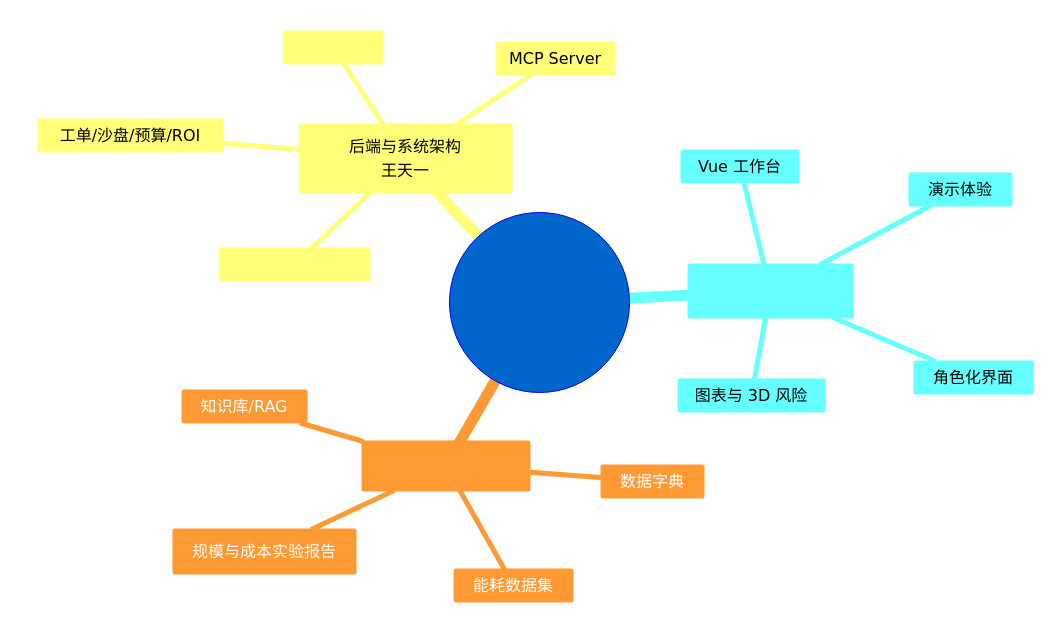
Image size: 1050x619. Some labels were removed from this diagram. Here are the shapes that lost their labels. From the top down, the centre of each, then its label:
At point 332,47: "REST API".
At point 294,264: "数据库与服务层".
At point 539,302: "项目经理 集成与交付 许奕".
At point 770,290: "前端与联调 周由".
At point 445,465: "数据与 AI 马源胜".
